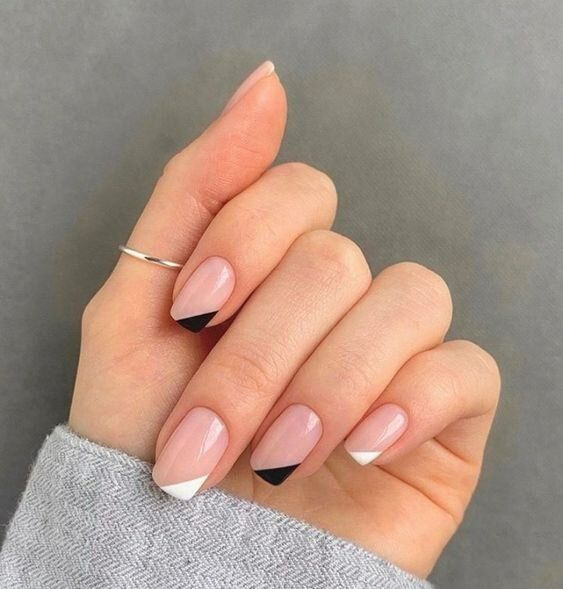nails: (145, 403, 232, 504), (247, 398, 326, 491), (165, 252, 237, 335), (338, 399, 415, 470), (214, 59, 277, 126)
